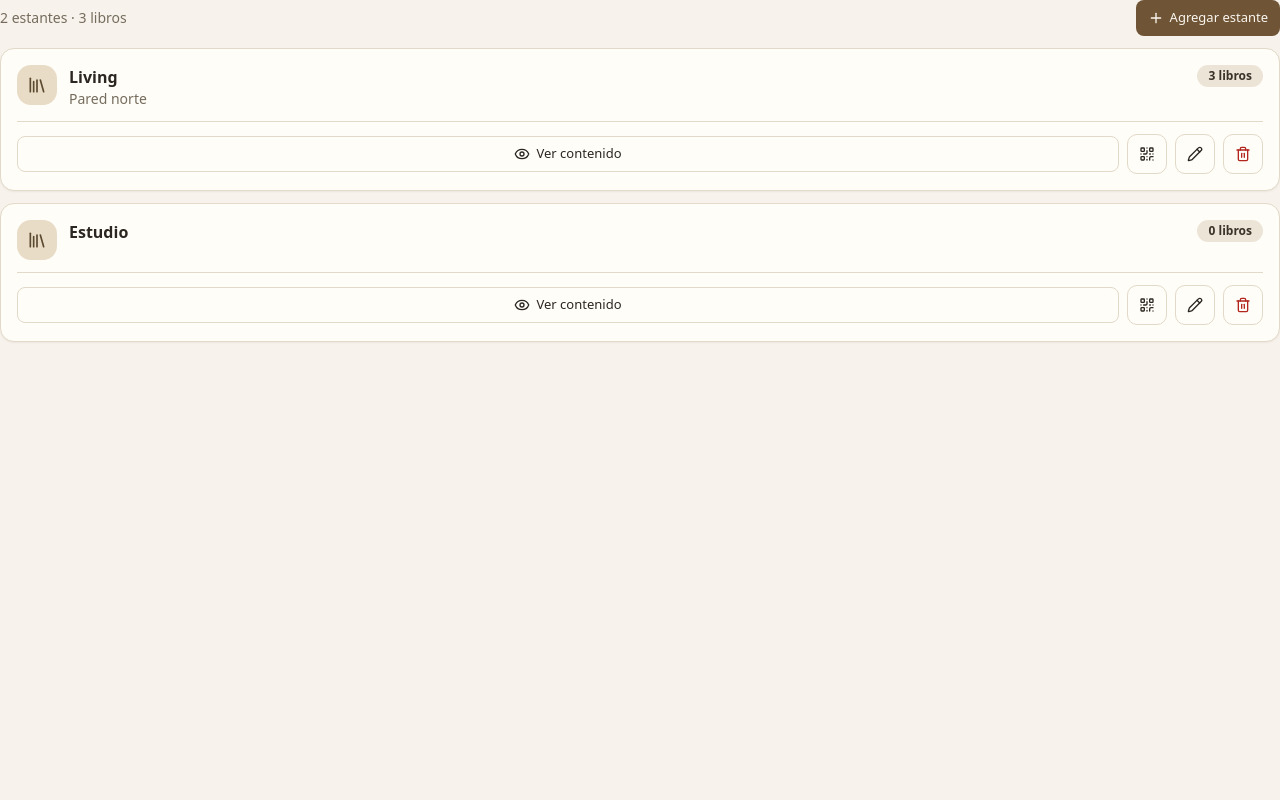
it: ShelvesManager › opens the create dialog
This screenshot has width=1280, height=800.
Expected: the text "Living" is shown, [69,66,118,88]
Click the button "Agregar estante" at (1208, 18), box [1136,0,1279,36]
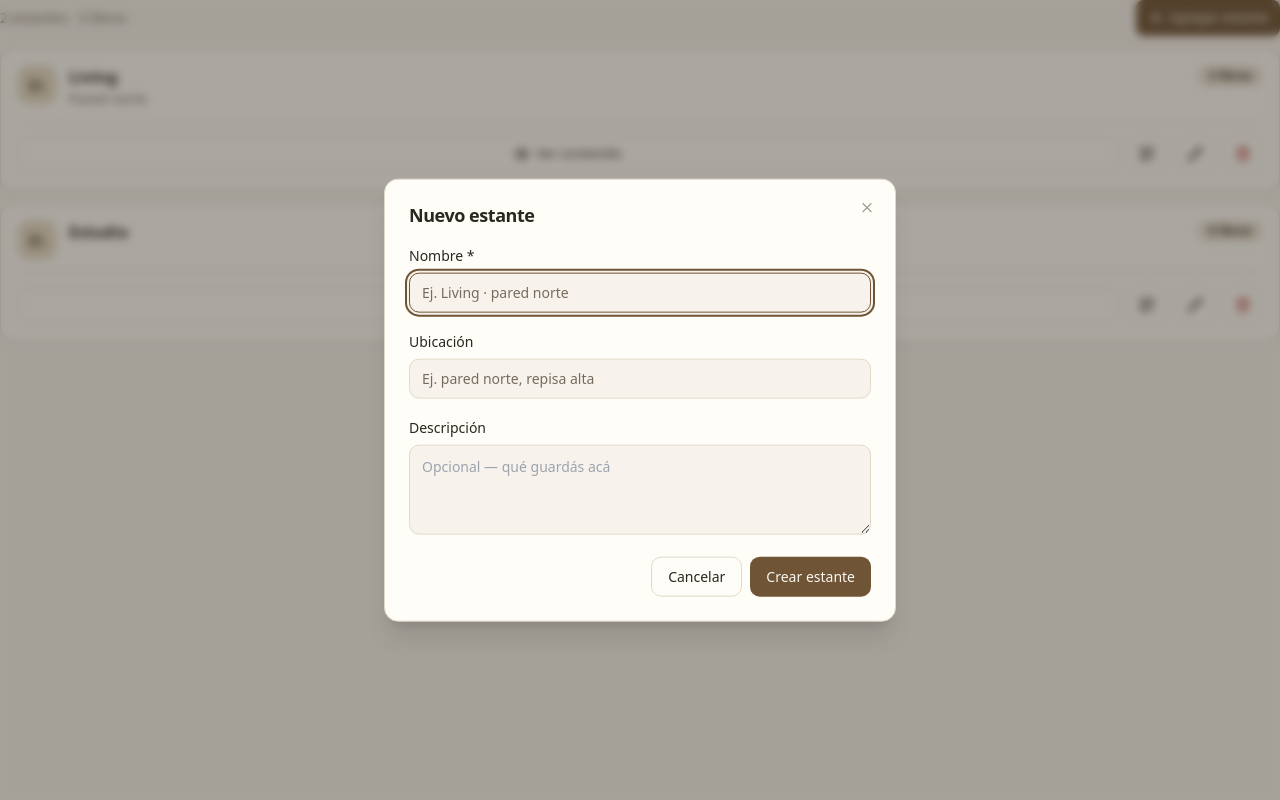
Now the heading "Nuevo estante" is shown, box [409,203,534,227]
